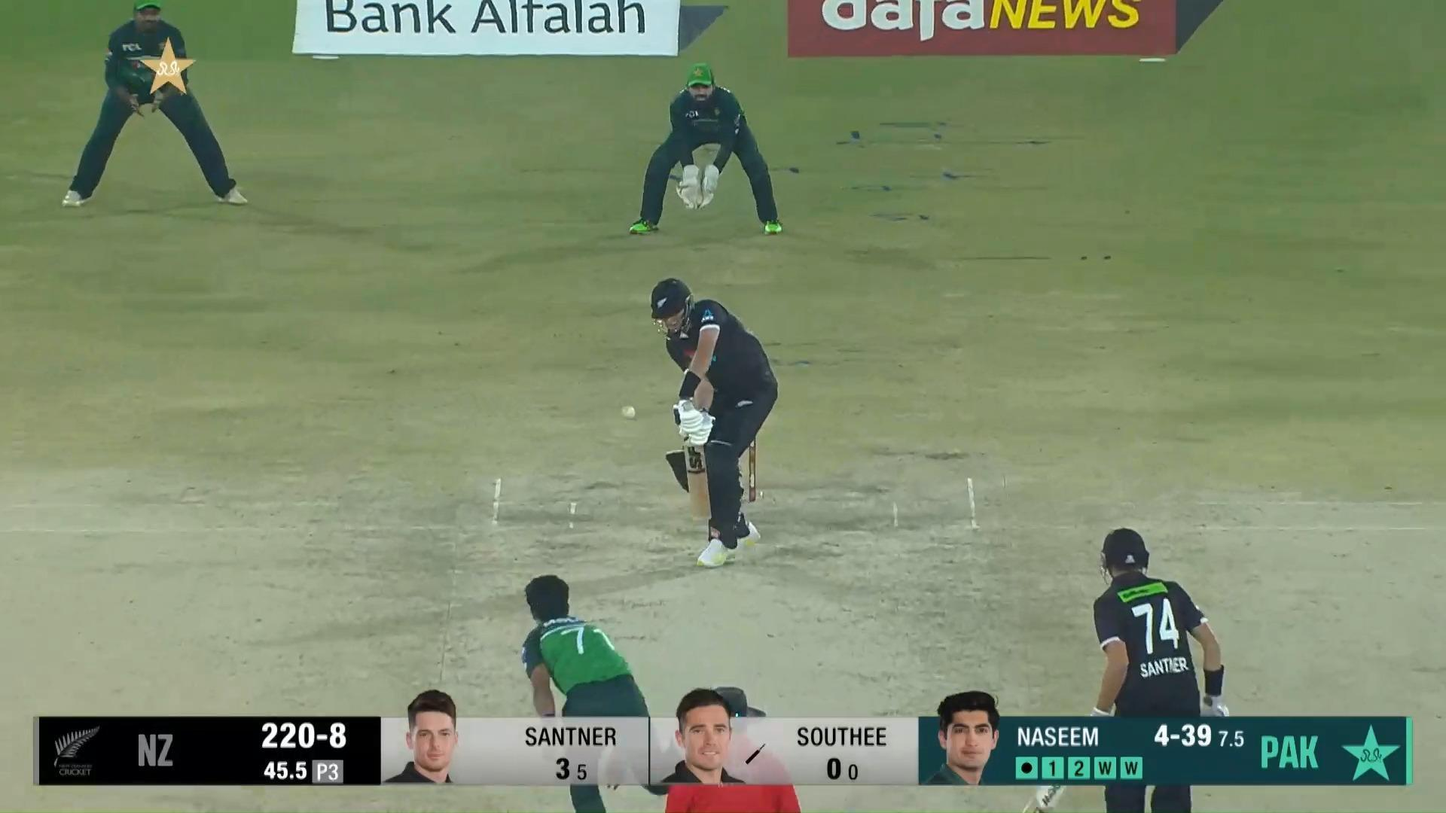BM 1: (648, 276, 780, 571)
BO: (519, 573, 685, 813)
